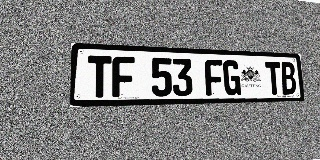3: (172, 58, 193, 96)
5: (151, 58, 172, 97)
B: (280, 62, 297, 94)
F: (112, 56, 135, 97), (205, 59, 224, 96)
G: (223, 60, 241, 95)
T: (88, 55, 111, 98), (265, 61, 282, 95)
